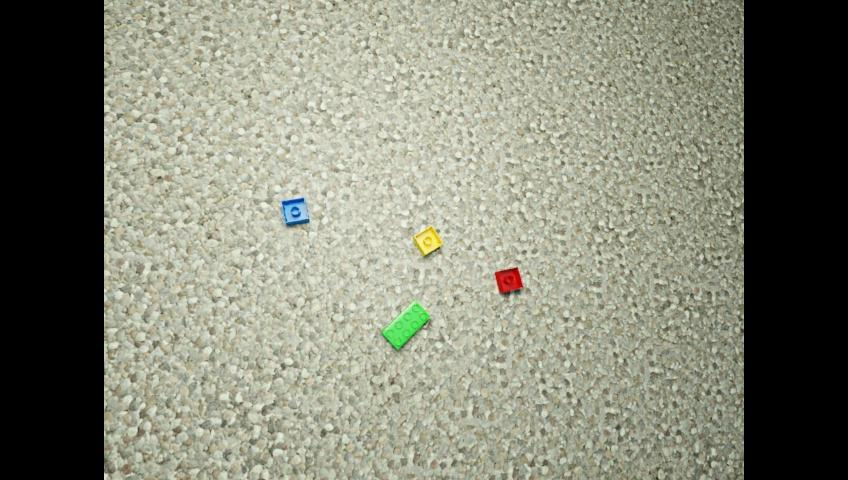2x2_blue: (281, 196, 309, 225)
2x2_red: (494, 266, 522, 292)
2x2_yellow: (413, 227, 443, 257)
4x2_green: (382, 300, 430, 349)
